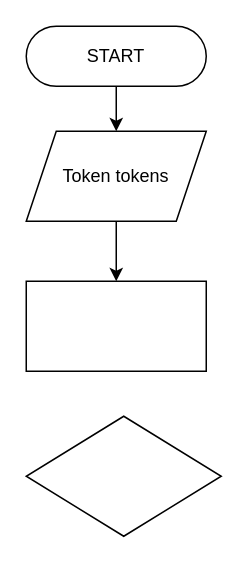
The diagram is 248 pixels wide and 563 high, and some of its shapes have lost their labels. Here are the shapes that lost their labels. From the top down, the box of each, then its label:
(25, 280, 206, 371): Get element
(25, 415, 221, 536): Is
